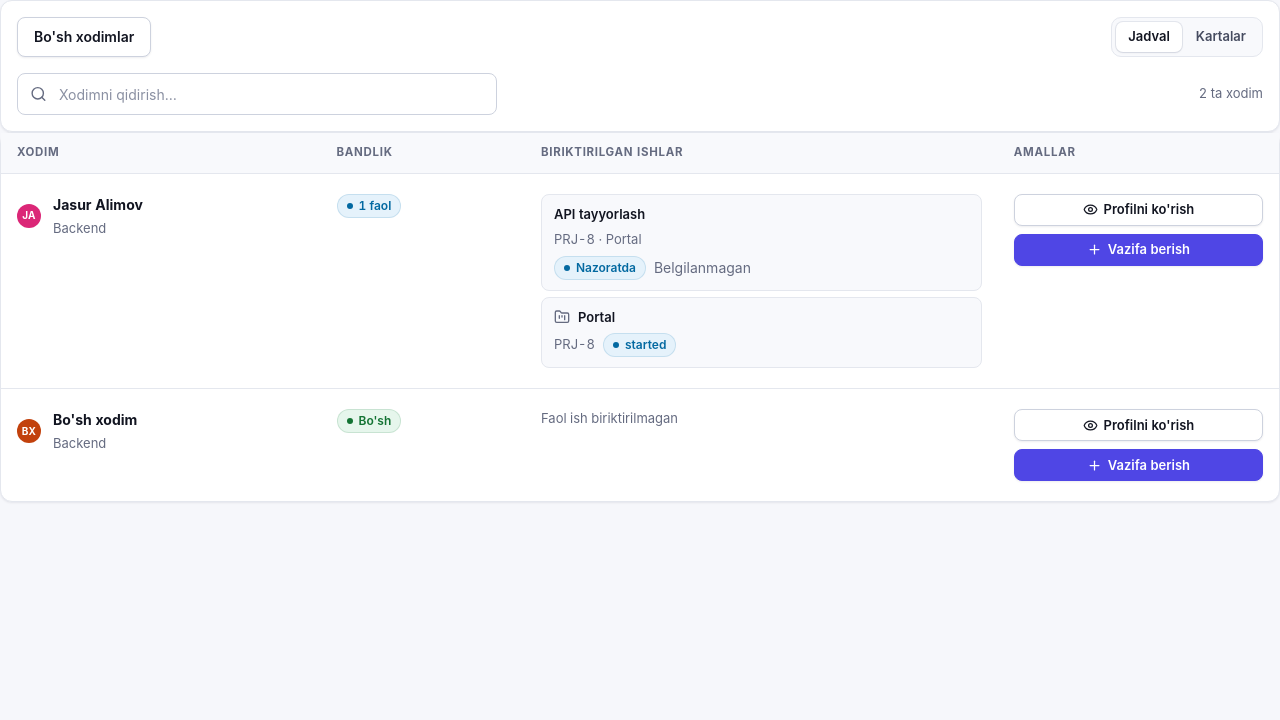
it: PeoplePage › loyiha nomi bilan xodim topiladi va bo'shlar filtri ishlaydi
Expected: the table is shown, [1,133,1279,501]
In the search field: (270, 94) [57,74,484,114], type "Portal"
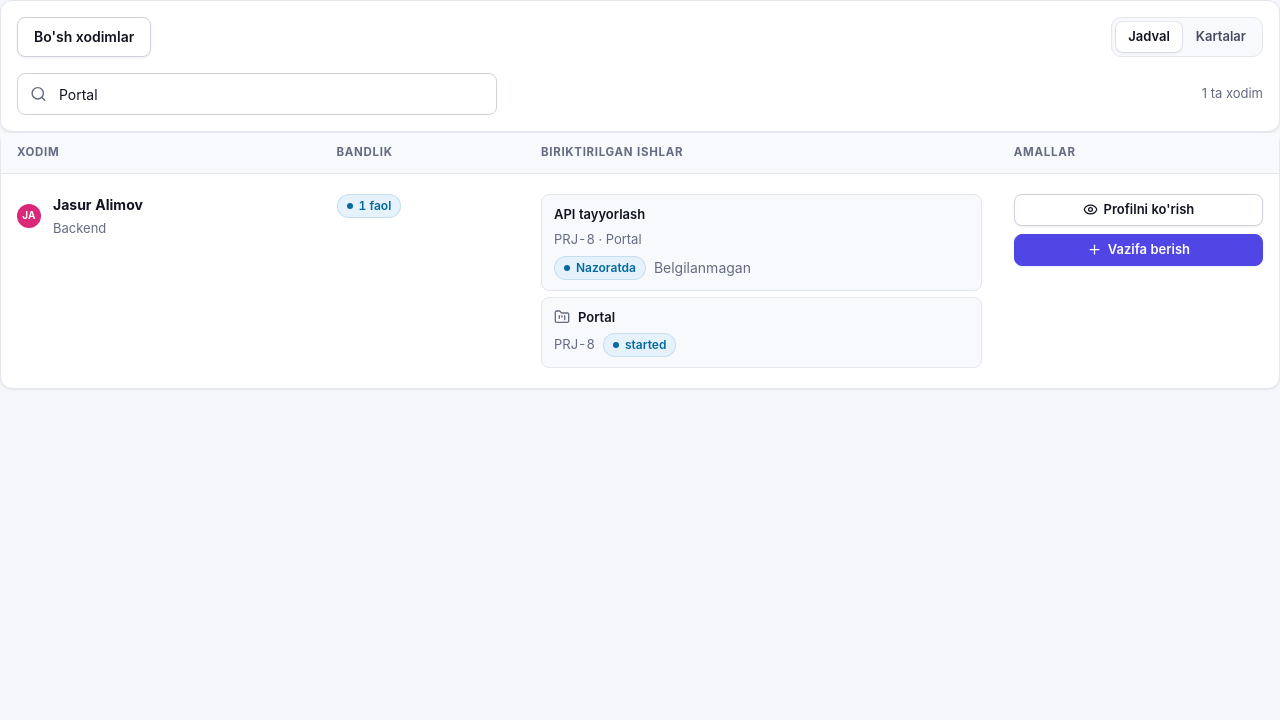
Clear the search field: (270, 94) [57,74,484,114]
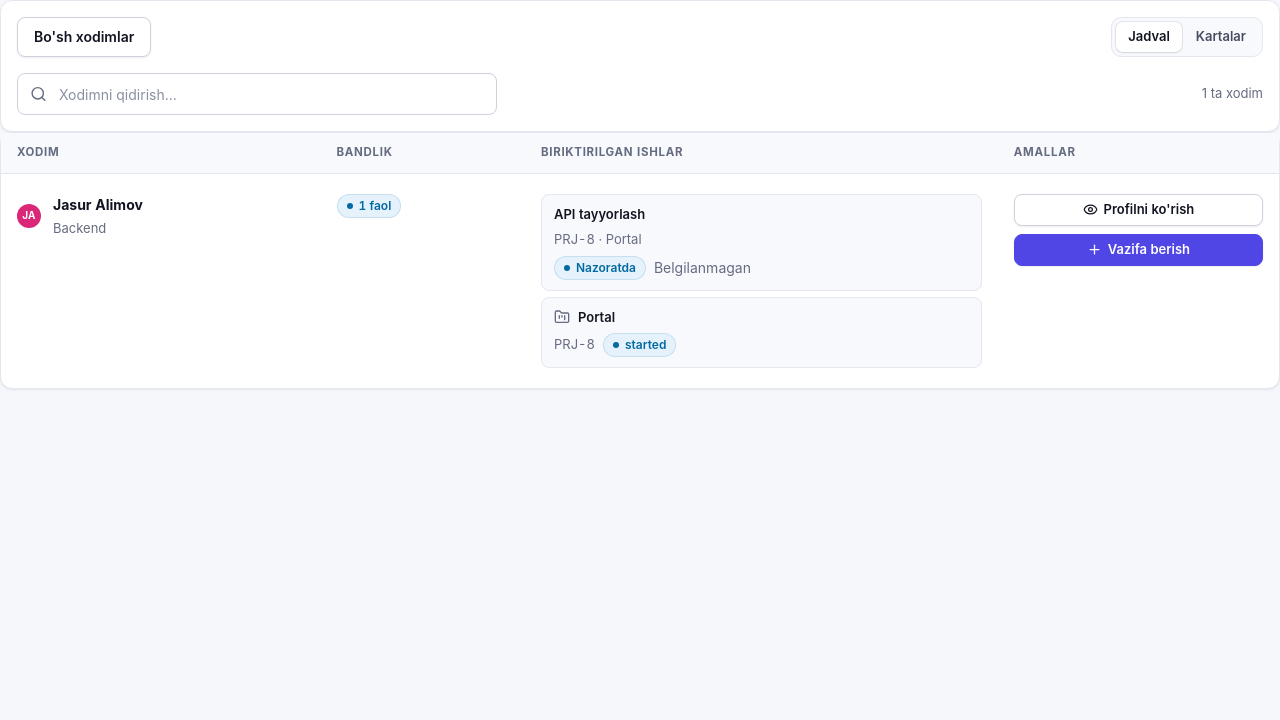
Click the button "Bo'sh xodimlar": (84, 37) [17,17,151,57]
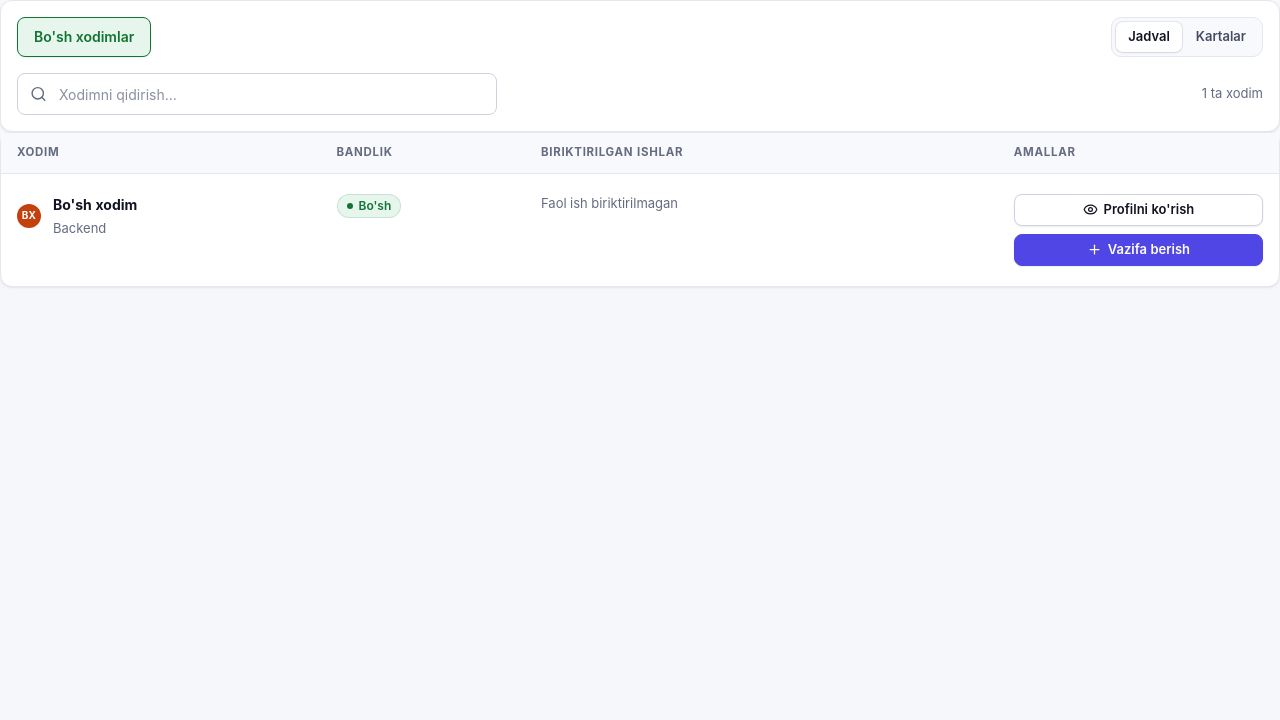
Now the button "Jasur Alimov" is gone
